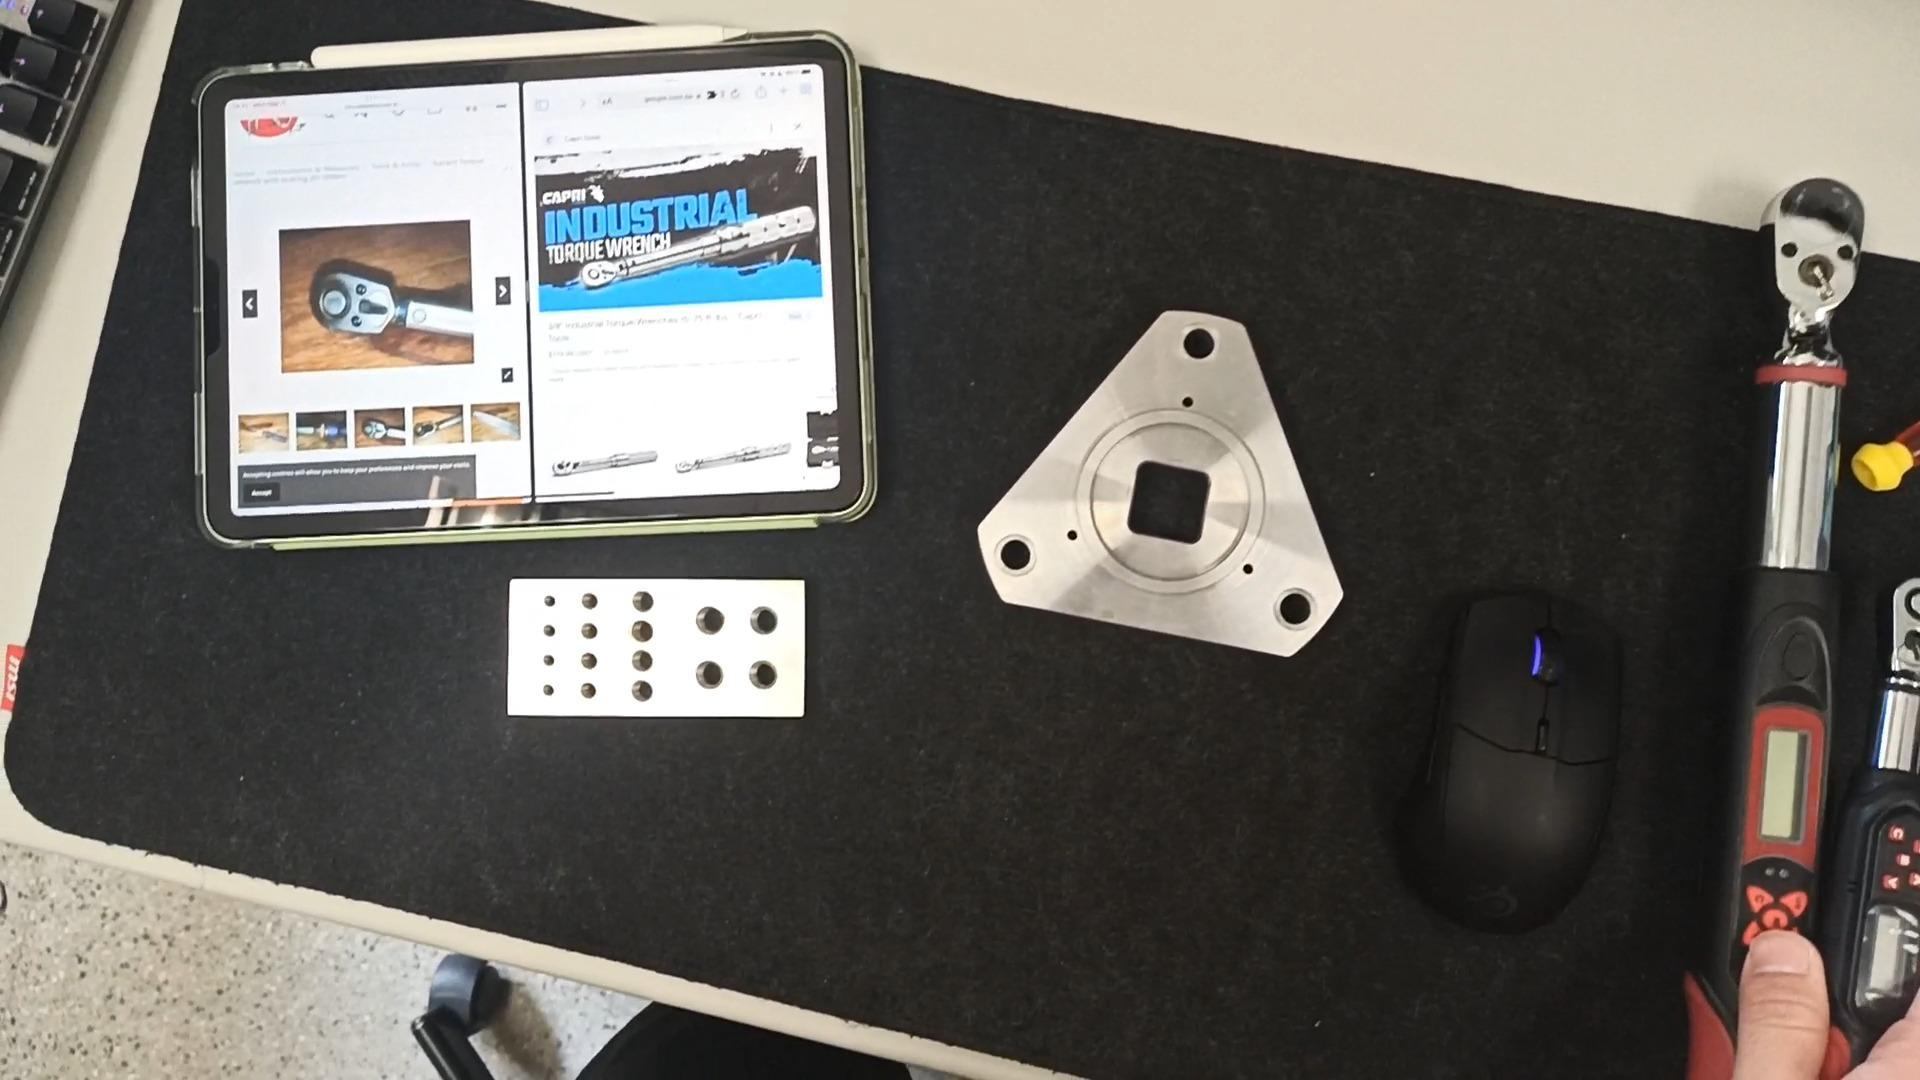Tool: (1758, 172, 1870, 374), (310, 260, 400, 343), (1882, 571, 1920, 679), (582, 259, 626, 289)
hole: (1255, 586, 1329, 637), (978, 529, 1040, 576), (1167, 321, 1230, 362), (733, 656, 786, 693), (735, 603, 789, 637), (684, 603, 733, 634), (683, 657, 730, 689), (619, 618, 659, 643), (620, 585, 660, 610), (617, 679, 656, 704), (618, 646, 658, 670), (570, 648, 604, 668), (572, 621, 606, 640), (571, 681, 603, 701), (571, 589, 604, 608), (528, 622, 557, 639), (528, 656, 557, 672), (530, 592, 557, 607), (529, 684, 556, 699)
